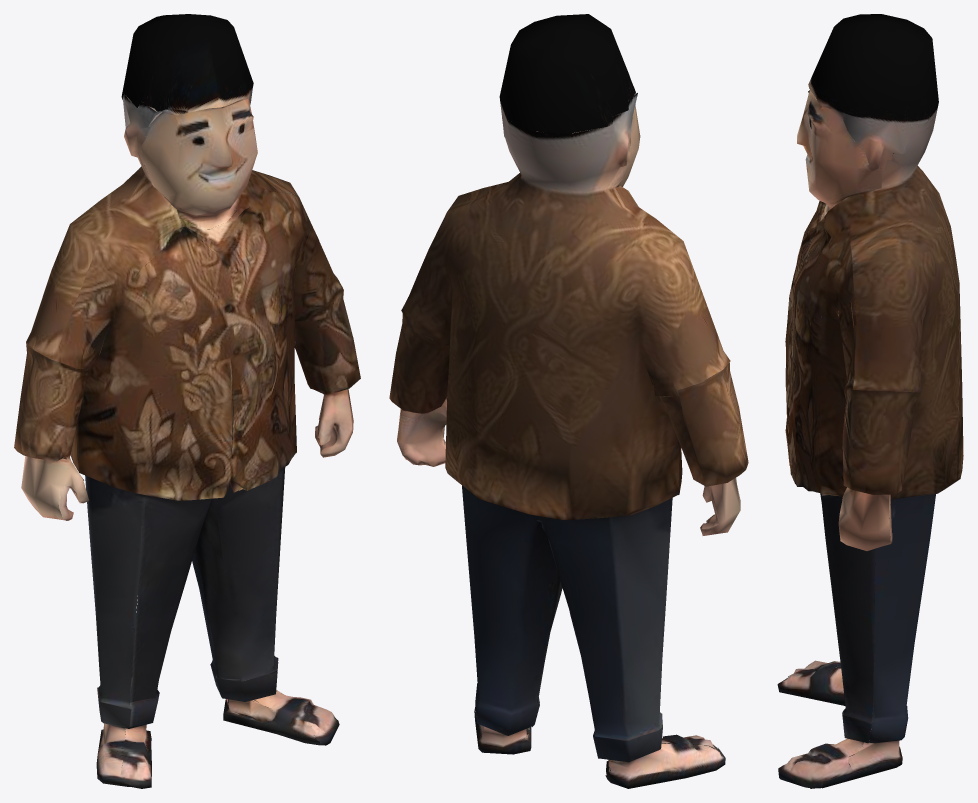
Rendered from npc_haji_dadang.glb.
The picture shows the model from 3 angles, left to right: view 1: azimuth 30°, elevation 25°; view 2: azimuth 150°, elevation 25°; view 3: azimuth 270°, elevation 25°; orthographic projection. The views are drawn at different scales.
Parts seen in each view (by area): view 1: torso, leg_r, leg_l; view 2: torso, leg_r, leg_l; view 3: torso, leg_l, leg_r.
Boxes of the visible parts, x1,y1,x2,y2 form: torso: [16, 14, 358, 444]; leg_r: [14, 421, 231, 788]; leg_l: [184, 362, 360, 745]; torso: [391, 14, 745, 464]; leg_r: [522, 443, 748, 788]; leg_l: [389, 383, 562, 754]; torso: [785, 14, 962, 479]; leg_l: [778, 400, 963, 788]; leg_r: [777, 390, 963, 705].
Size of the model in its own units: 0.8188 by 1.66 by 0.3927.
1 material, 1 textured.
